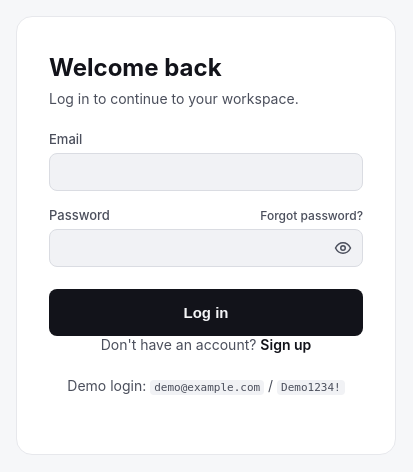
Login — show/hide password toggle › hides the password by default and reveals it as plain text when toggled
Type "whatever" into the password field labelled "Password Forgot password?" at (206, 248), box left=49, top=229, right=363, bottom=267
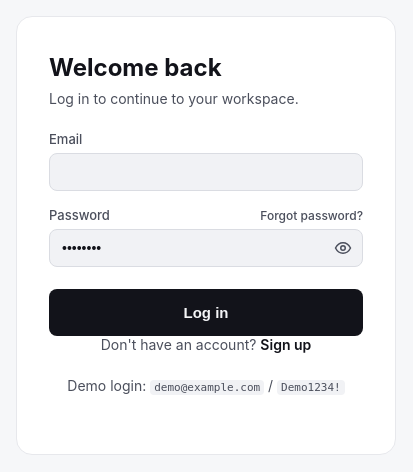
Click the button named "Show password" at (343, 248), box left=329, top=234, right=357, bottom=262
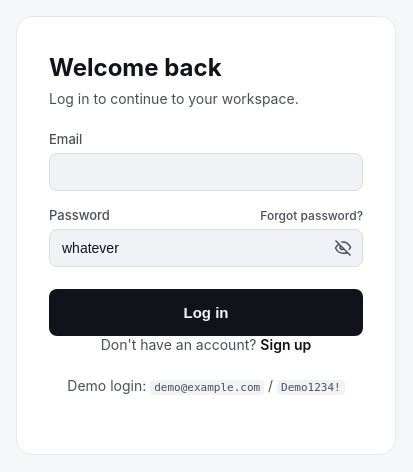
Result: the field labelled "Password Forgot password?" shows its text at left=49, top=229, right=363, bottom=267
Click the button named "Hide password" at (343, 248), box left=329, top=234, right=357, bottom=262
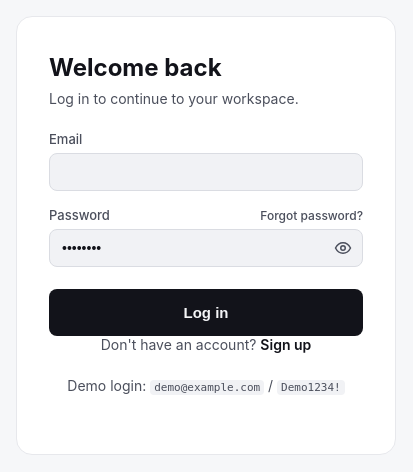
Result: the password field labelled "Password Forgot password?" hides its text at left=49, top=229, right=363, bottom=267
